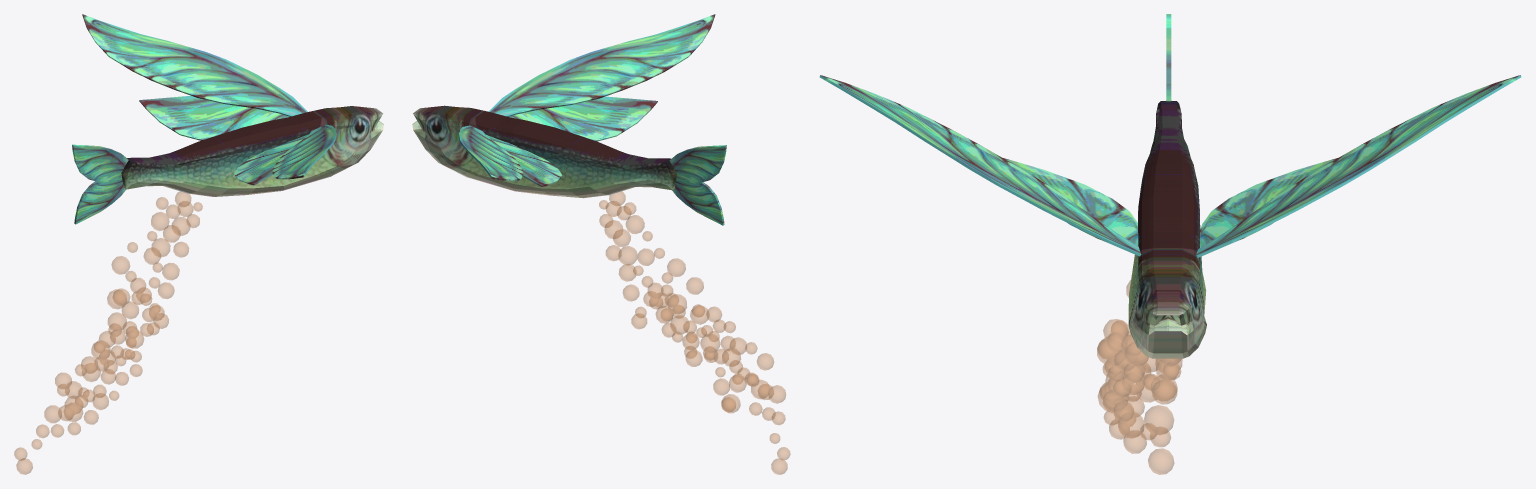
The model's file is flying-fish.glb.
3 renders of one model, left to right at view 1: azimuth 30°, elevation 25°; view 2: azimuth 150°, elevation 25°; view 3: azimuth 270°, elevation 25°, orthographic. The views are drawn at different scales.
Parts seen in each view (by area): view 1: Plane, Icosphere.001, Plane.002, Plane.001, Plane.004, Plane.003; view 2: Plane, Icosphere.001, Plane.002, Plane.001, Plane.004, Plane.003; view 3: Plane, Plane.002, Icosphere.001, Plane.001.
Part boxes in pixels (x1=…): Plane: x1=121, y1=106, x2=383, y2=196; Icosphere.001: x1=14, y1=191, x2=202, y2=474; Plane.002: x1=82, y1=14, x2=336, y2=179; Plane.001: x1=139, y1=95, x2=308, y2=185; Plane.004: x1=72, y1=144, x2=128, y2=181; Plane.003: x1=74, y1=177, x2=125, y2=224; Plane: x1=412, y1=105, x2=676, y2=198; Icosphere.001: x1=599, y1=191, x2=790, y2=474; Plane.002: x1=458, y1=14, x2=715, y2=180; Plane.001: x1=486, y1=96, x2=657, y2=186; Plane.004: x1=669, y1=145, x2=726, y2=182; Plane.003: x1=672, y1=178, x2=724, y2=225; Plane: x1=1128, y1=101, x2=1206, y2=358; Plane.002: x1=819, y1=75, x2=1521, y2=257; Icosphere.001: x1=1097, y1=280, x2=1182, y2=474; Plane.001: x1=1003, y1=158, x2=1337, y2=247.
Bounding box in the file's own units: 17.83 × 15.55 × 18.64.
6 materials, 5 textured.
